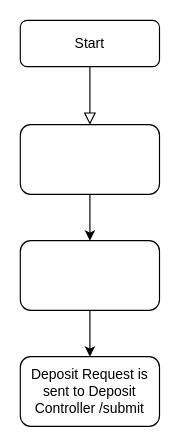
Some shapes in this 180 by 447 pixel diagram are drawn without their labels. Here are the shapes that lost their labels. From the top down, the centre of each, then its label:
the point at 89,159: User inputs Deposit
the point at 89,275: User Submits deposit
